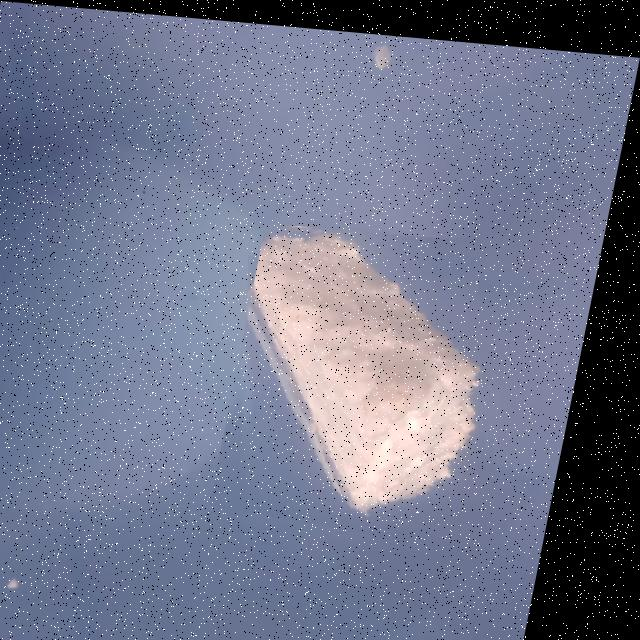litter: (224, 216, 543, 543)
